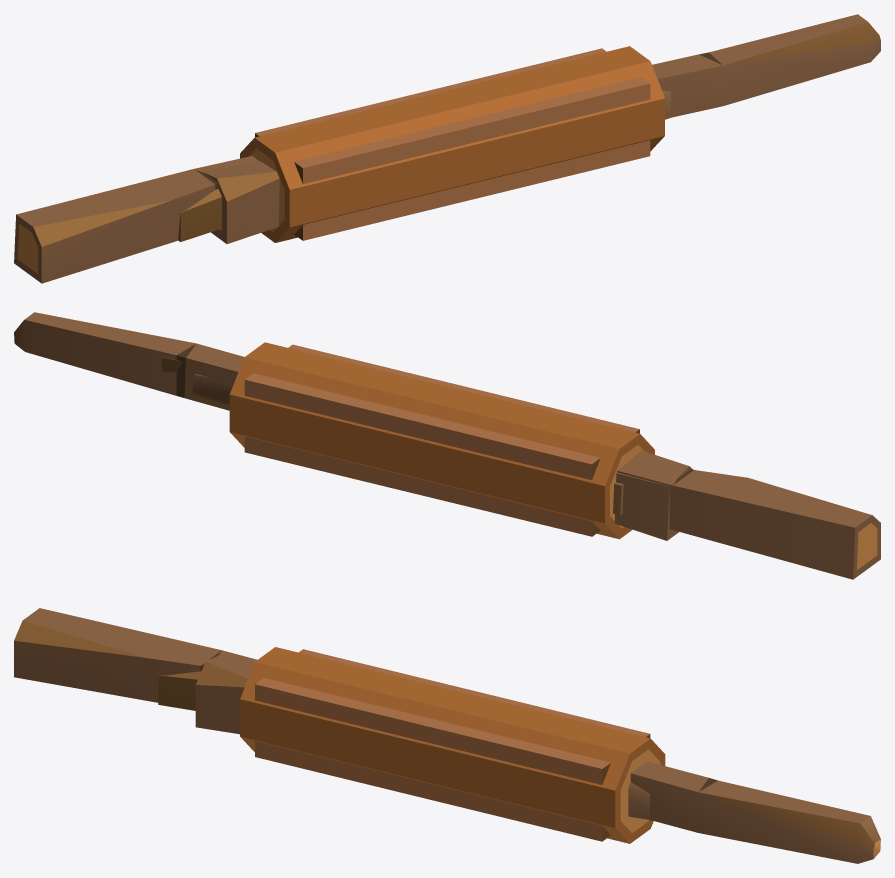
File: Wood_G.fbx
The picture shows the model from 3 angles, top to bottom: view 1: azimuth 30°, elevation 25°; view 2: azimuth 150°, elevation 25°; view 3: azimuth 330°, elevation 25°; orthographic projection.
Parts seen in each view (by area): view 1: Wood_01, Wood_03, Wood_s01, Wood_05, Wood_04; view 2: Wood_01, Wood_03, Wood_s01, Wood_05; view 3: Wood_01, Wood_03, Wood_s01, Wood_05, Wood_04.
Boxes of the visible parts, x1,y1,x2,y2 form: Wood_01: [240, 46, 664, 242]; Wood_03: [14, 14, 880, 283]; Wood_s01: [255, 48, 650, 240]; Wood_05: [203, 90, 670, 243]; Wood_04: [178, 189, 221, 241]; Wood_01: [229, 342, 654, 539]; Wood_03: [14, 312, 880, 579]; Wood_s01: [244, 344, 639, 536]; Wood_05: [192, 374, 692, 540]; Wood_01: [240, 647, 665, 843]; Wood_03: [14, 608, 880, 863]; Wood_s01: [255, 649, 650, 841]; Wood_05: [195, 655, 649, 819]; Wood_04: [158, 671, 201, 710].
Bounding box in the file's own units: 418 × 42.45 × 42.45.
